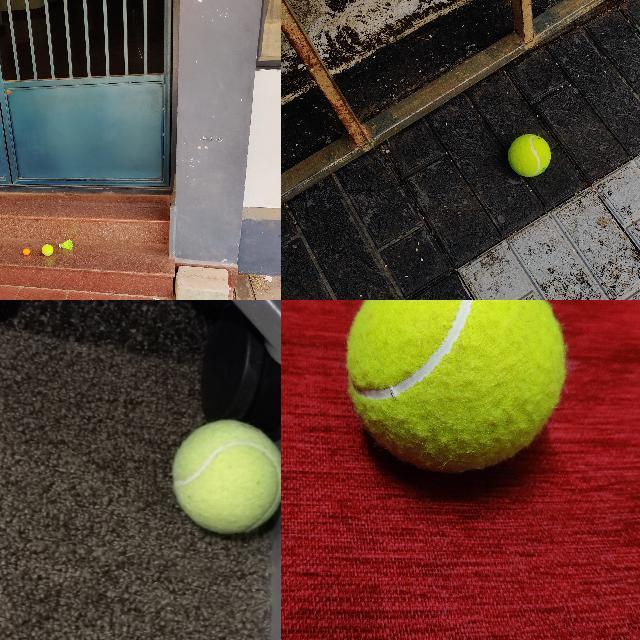tennis-ball: (344, 300, 568, 473), (170, 418, 280, 536), (507, 133, 551, 177), (42, 244, 52, 256)
